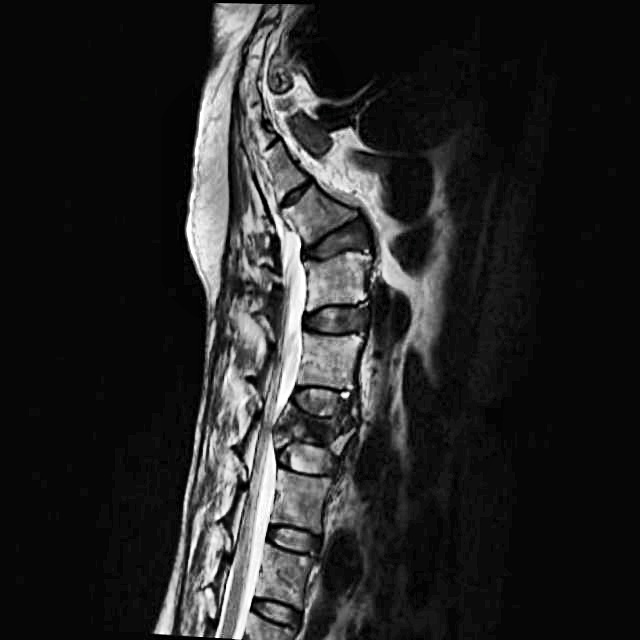Comminuted: (266, 377, 366, 489)
